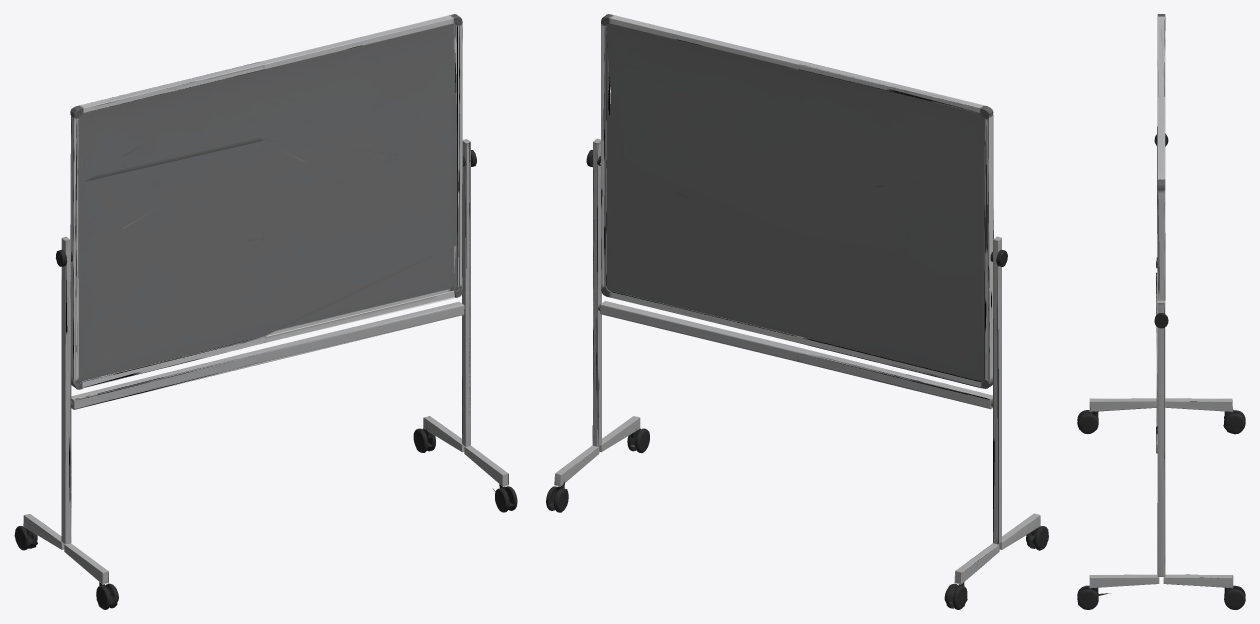
File: office_whiteboard.glb
The picture shows the model from 3 angles, left to right: view 1: azimuth 30°, elevation 25°; view 2: azimuth 150°, elevation 25°; view 3: azimuth 270°, elevation 25°; orthographic projection. The views are drawn at different scales.
Parts seen in each view (by area): view 1: geometry_0; view 2: geometry_0; view 3: geometry_0.
Part boxes in pixels (x1,y1,x2,y2): geometry_0: (14,14,517,609); geometry_0: (546,14,1048,609); geometry_0: (1077,14,1245,609).
Size of the model in its own units: 1.48 by 1.6 by 0.5771.
Materials: 1 (1 with a texture image).
